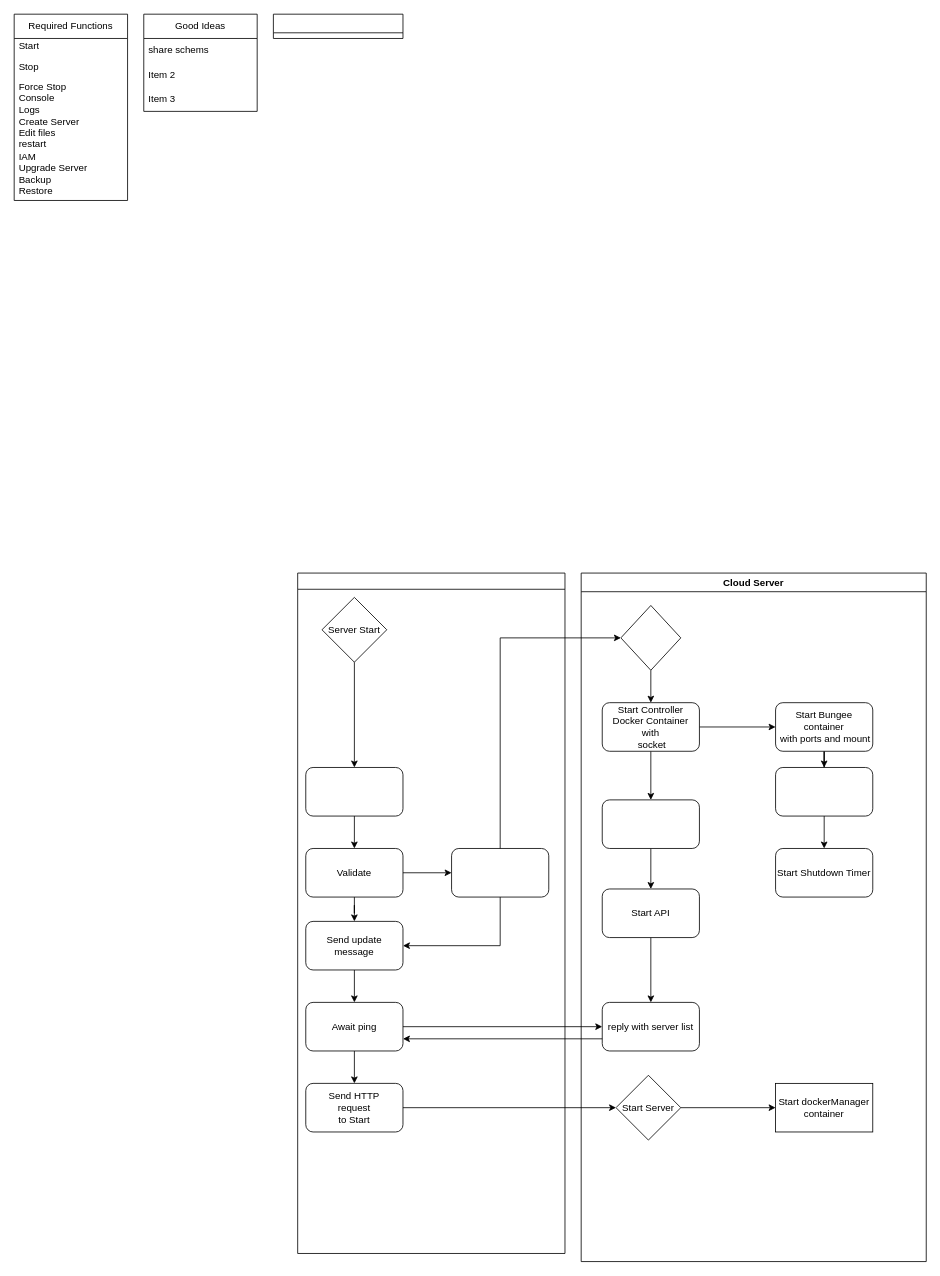
Image size: 940x1276. Some labels were removed from this diagram. The box of each missing label's shape, as (x1, y1, x2, y2) in pixels:
Boot: (620, 605, 681, 670)
Discord Command: (305, 767, 403, 816)
Free Server: (297, 572, 565, 1253)
get server list from config: (601, 799, 699, 848)
Networking Diagram: (273, 13, 403, 38)
Start G cloud Server: (451, 848, 549, 897)
start plugin: (775, 767, 873, 816)
